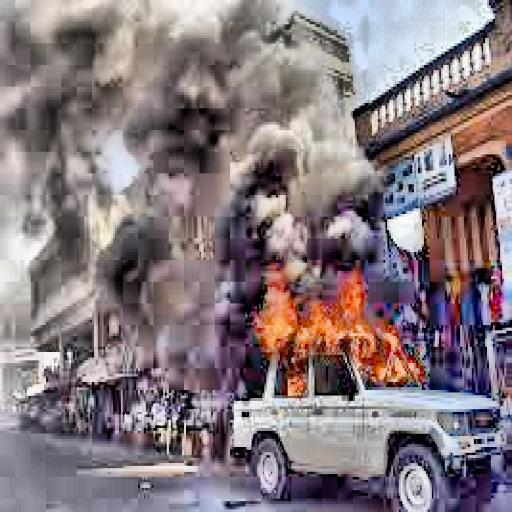fire: (253, 260, 434, 404)
